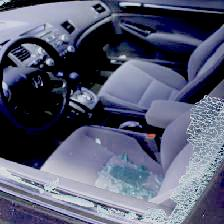glass_shatter: (4, 3, 221, 219)
